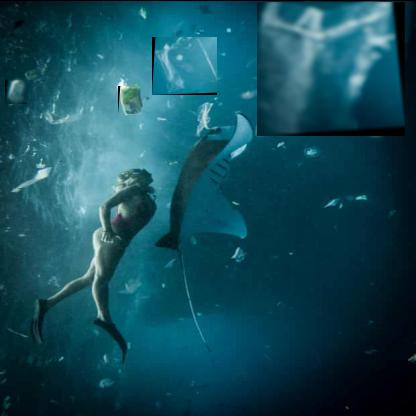plastic-bag: (257, 0, 406, 135), (152, 35, 218, 94)
waste: (118, 82, 144, 112), (5, 76, 28, 102)
